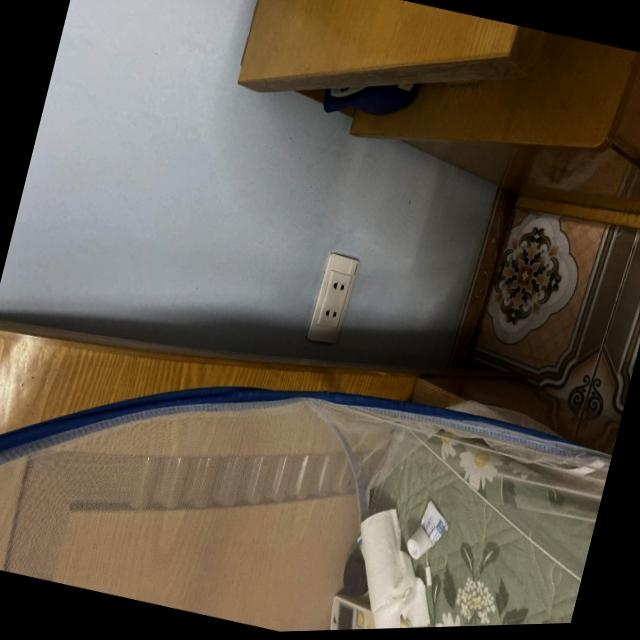outlet: (304, 249, 360, 347)
